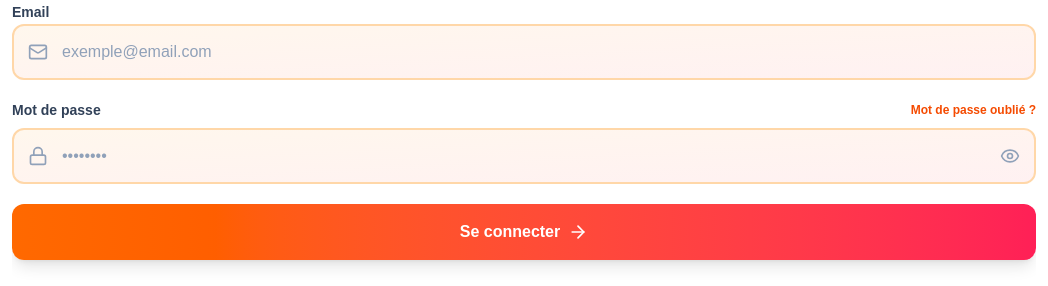
Test: LoginForm › disables submit button while loading
Type "test@example.com" into the field with placeholder "exemple@email.com" at (524, 52), box [12,24,1036,80]
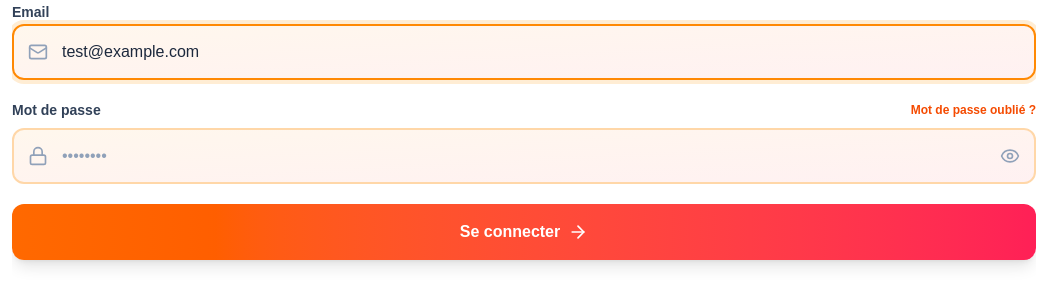
Type "password123" into the password field with placeholder "••••••••" at (524, 156), box [12,128,1036,184]
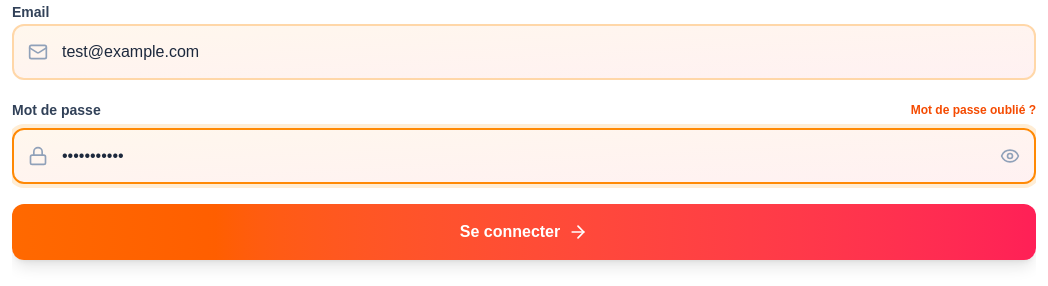
Click the button "Se connecter" at (524, 232), box [12,204,1036,260]
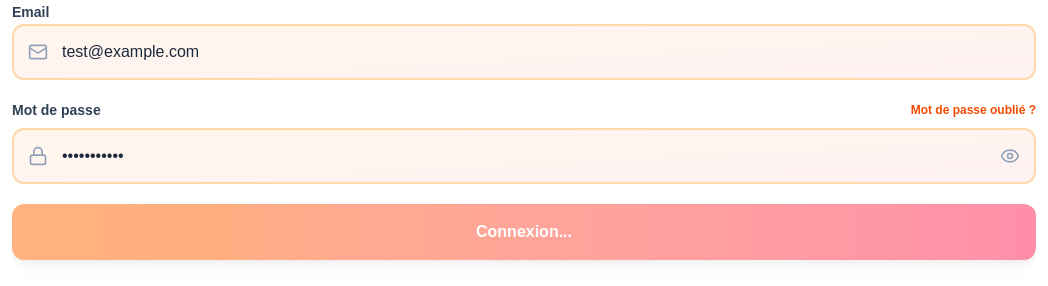
Expected: the button "Connexion..." is disabled, [12,204,1036,260]
